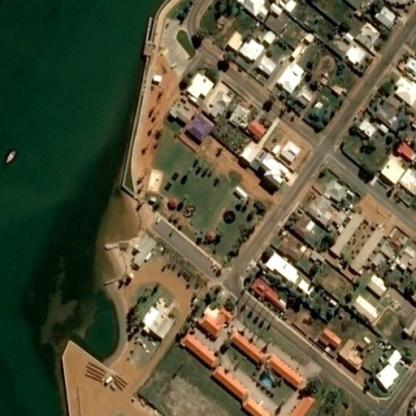ship: (2, 145, 18, 168)
